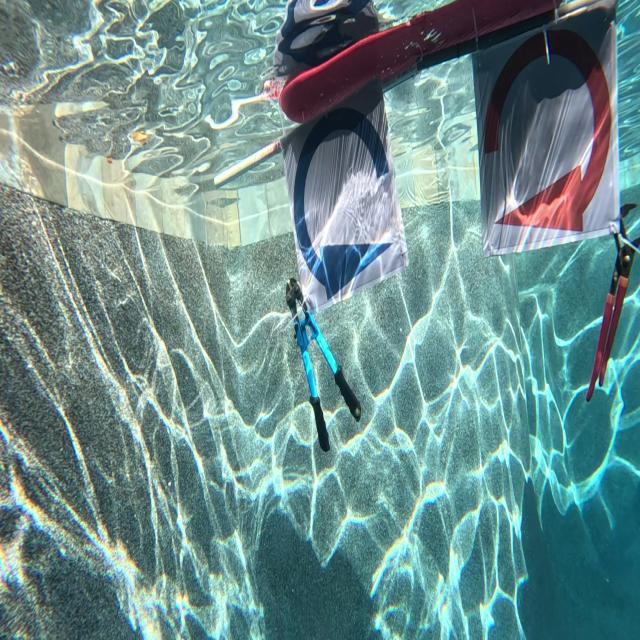blue_side: (283, 73, 408, 305)
red_side: (461, 0, 634, 248)
